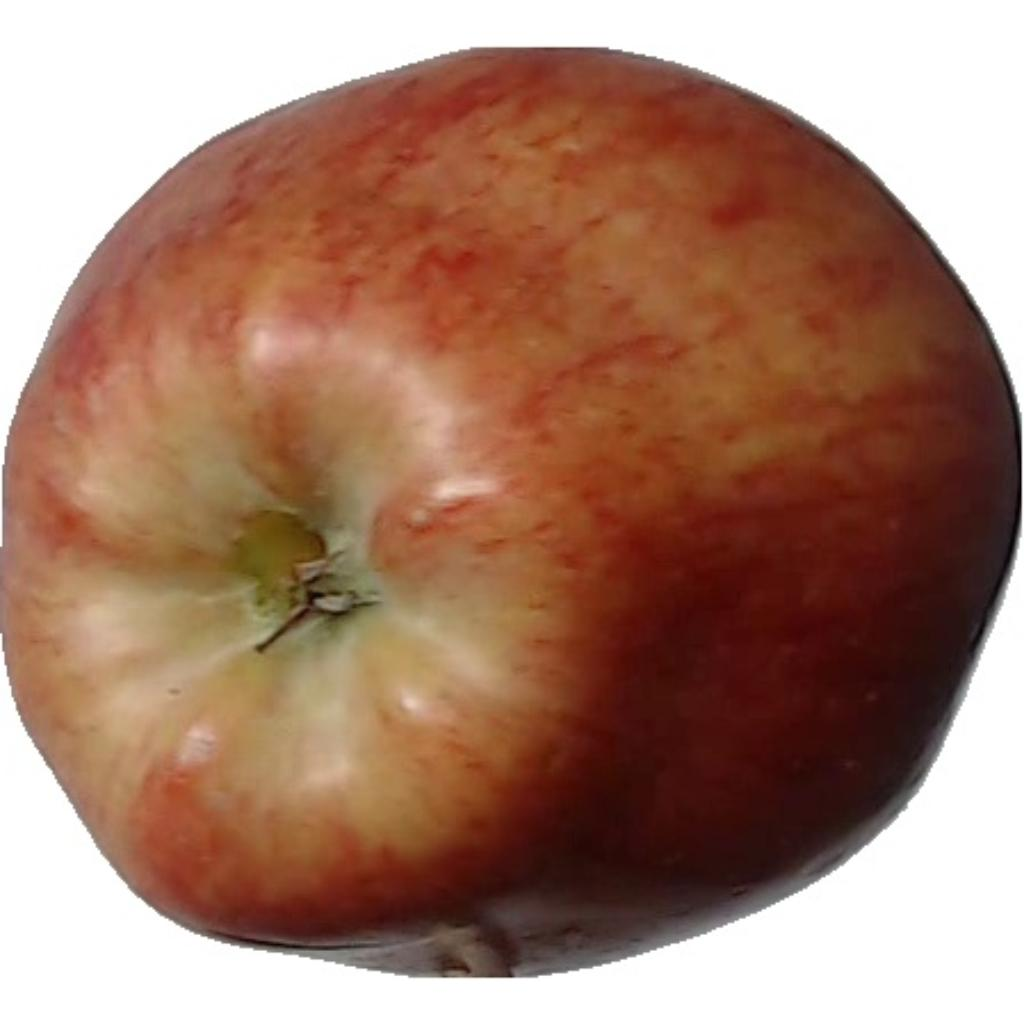apple: (0, 50, 1020, 973)
